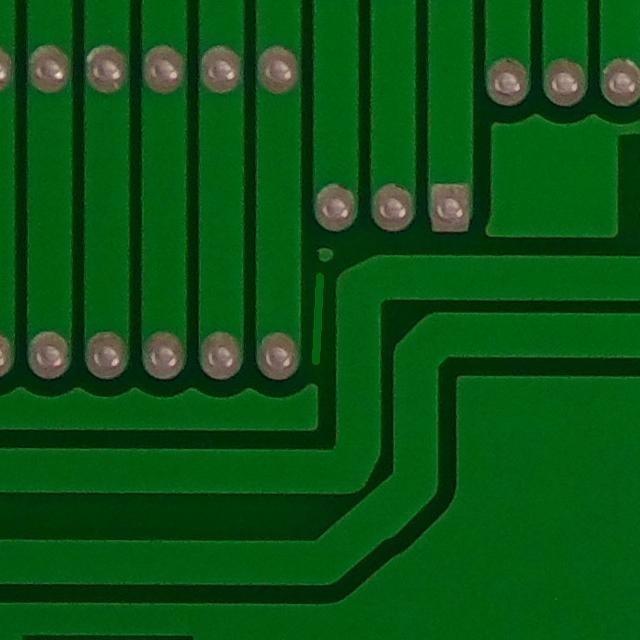spurious_copper: (302, 268, 338, 372)
